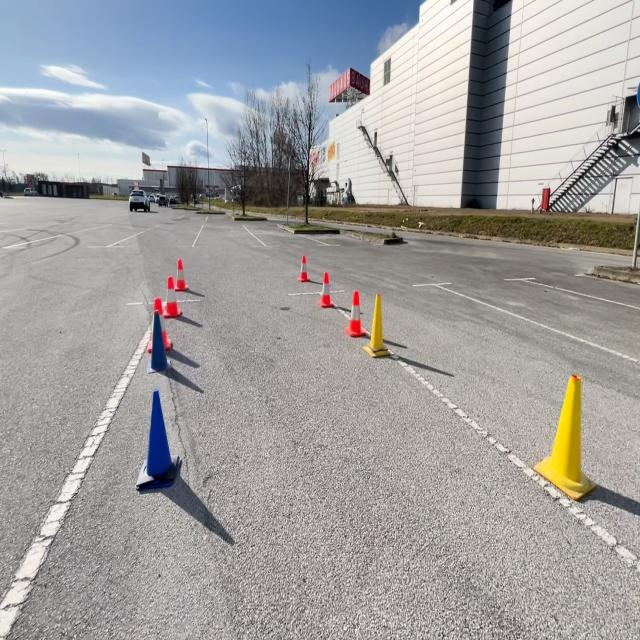blue_cone: (134, 388, 183, 493), (147, 311, 170, 372)
orange_cone: (147, 297, 172, 351), (345, 290, 367, 341), (163, 275, 181, 318), (317, 271, 336, 308), (174, 257, 190, 292), (296, 254, 311, 283)
yellow_cone: (533, 373, 597, 502), (362, 292, 390, 359)
